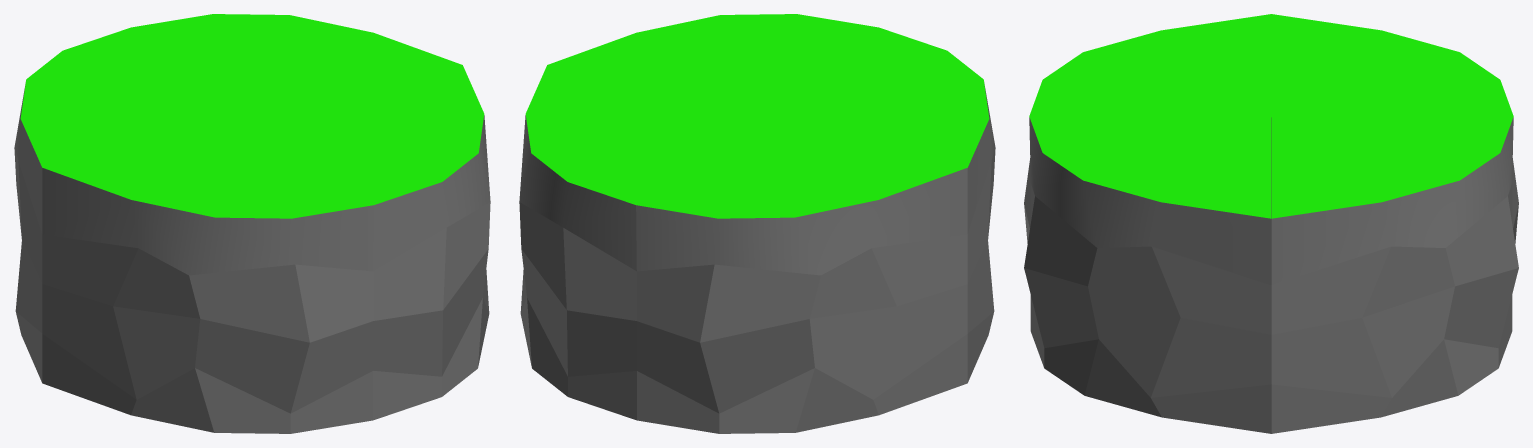
Rendered from Earth_circle.fbx.
The picture shows the model from 3 angles, left to right: view 1: azimuth 30°, elevation 25°; view 2: azimuth 150°, elevation 25°; view 3: azimuth 270°, elevation 25°; orthographic projection.
Parts seen in each view (by area): view 1: Land_Circle_04, Land_Circle_03, Land_Circle_01, Land_Circle_02; view 2: Land_Circle_01, Land_Circle_02, Land_Circle_04, Land_Circle_03; view 3: Land_Circle_03, Land_Circle_02, Land_Circle_01, Land_Circle_04.
Boxes of the visible parts, x1,y1,x2,y2 form: Land_Circle_04: (42, 116, 373, 433); Land_Circle_03: (253, 65, 490, 420); Land_Circle_01: (14, 27, 251, 382); Land_Circle_02: (131, 14, 461, 116); Land_Circle_01: (636, 116, 967, 433); Land_Circle_02: (519, 65, 756, 420); Land_Circle_04: (758, 27, 995, 382); Land_Circle_03: (548, 14, 878, 116); Land_Circle_03: (1024, 116, 1271, 433); Land_Circle_02: (1271, 116, 1518, 433); Land_Circle_01: (1271, 14, 1518, 243); Land_Circle_04: (1024, 14, 1271, 243).
Size of the model in its own units: 1600 by 1635 by 785.
